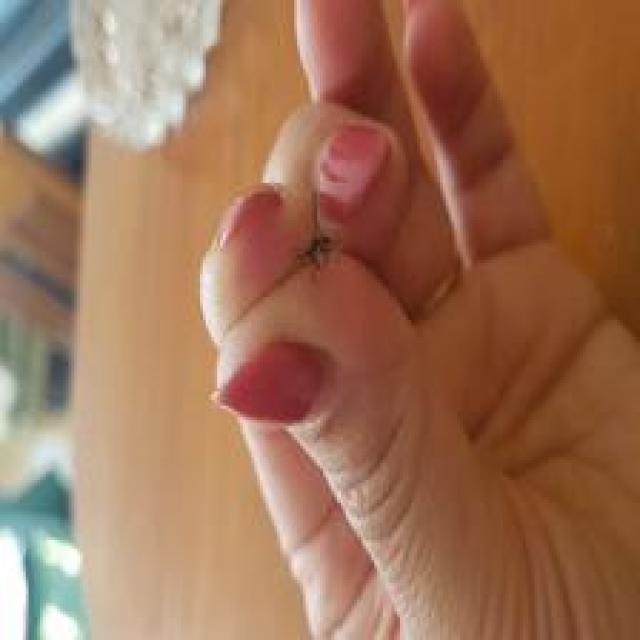Aedes albopictus: (296, 187, 338, 273)
